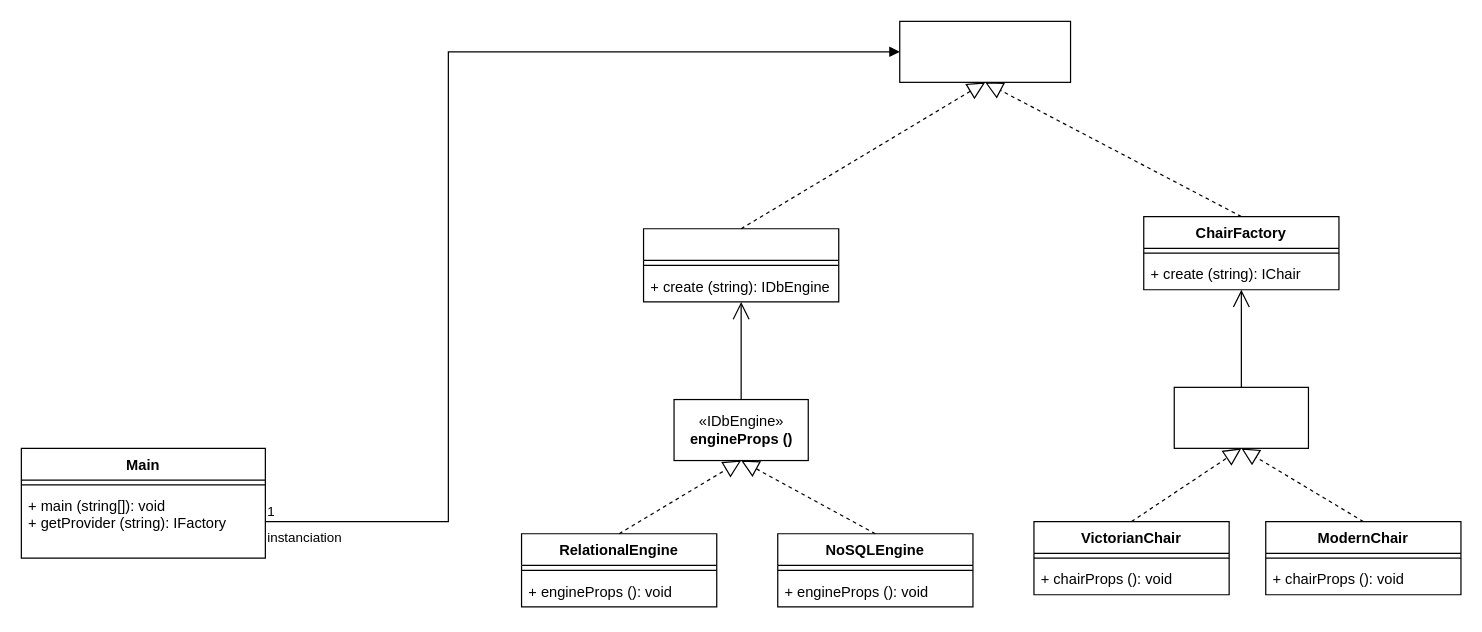
Some shapes in this 1482 by 632 pixel diagram are drawn without their labels. Each missing label, with the box of its shape:
DbEngineFactory: (642, 228, 839, 302)
«IChair» chairProps (): (1173, 386, 1308, 448)
«IFactory<T>» T create (string): (899, 20, 1071, 82)
